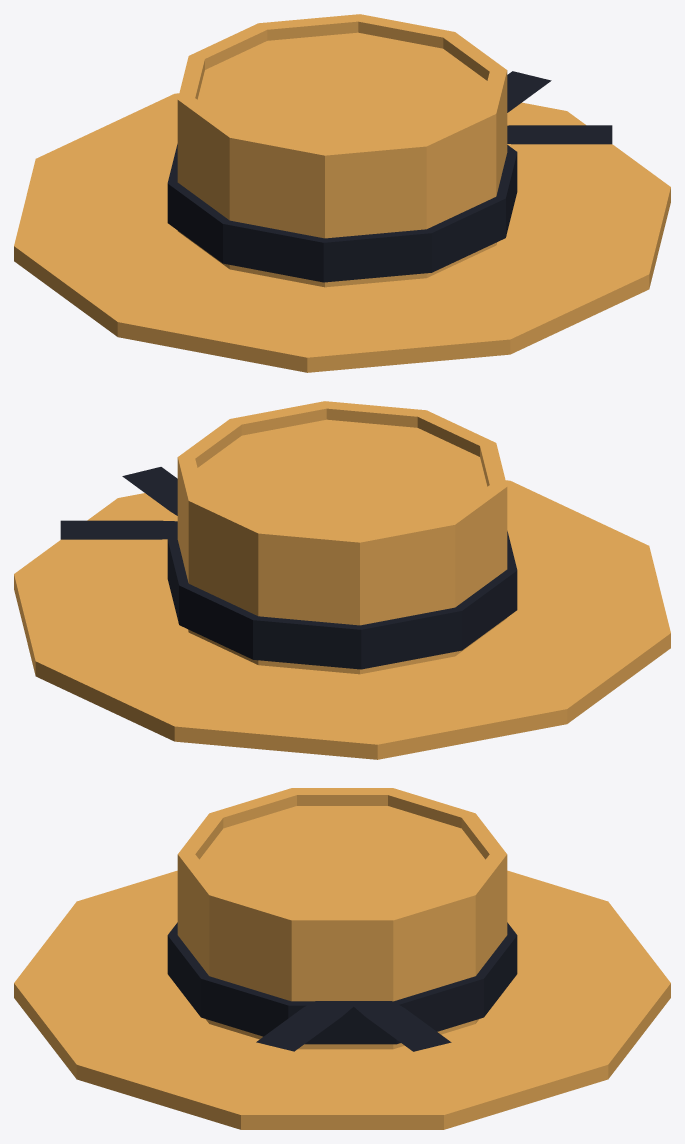
File: Cap.fbx
3 views of the same model, one above another, from view 1: azimuth 30°, elevation 25°; view 2: azimuth 150°, elevation 25°; view 3: azimuth 270°, elevation 25° (orthographic). The views are drawn at different scales.
Visible parts, largest first — view 1: Cylinder, Plane, Plane.001; view 2: Cylinder, Plane.001, Plane; view 3: Cylinder, Plane, Plane.001.
Part boxes in pixels (x1,y1,x2,y2): Cylinder: [14, 14, 670, 372]; Plane: [507, 125, 612, 144]; Plane.001: [507, 71, 551, 112]; Cylinder: [14, 401, 670, 759]; Plane.001: [60, 520, 177, 539]; Plane: [122, 467, 177, 515]; Cylinder: [14, 788, 670, 1129]; Plane: [256, 1001, 359, 1051]; Plane.001: [354, 1001, 451, 1051].
Size of the model in its own units: 540 by 137 by 568.
